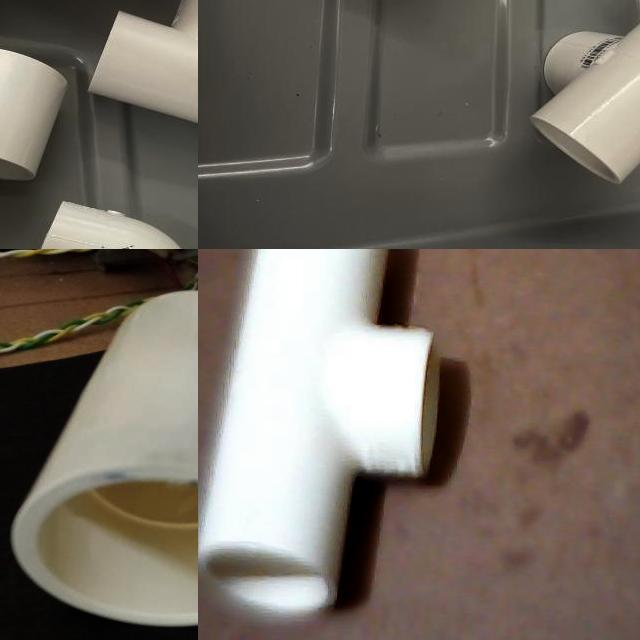L Joint: (43, 203, 184, 249)
T Joint: (198, 249, 442, 626), (9, 291, 198, 631), (528, 22, 640, 186)
